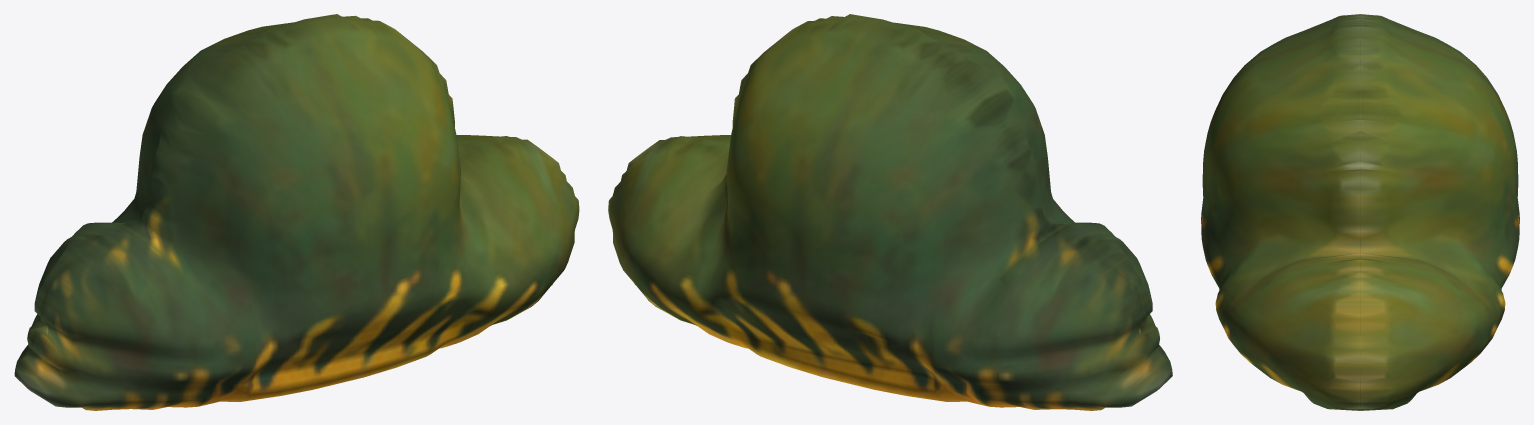
Rendered from 01_rocks_and_bushes_r03_c16.glb.
3 renders of one model, left to right at view 1: azimuth 30°, elevation 25°; view 2: azimuth 150°, elevation 25°; view 3: azimuth 270°, elevation 25°, orthographic. The views are drawn at different scales.
Parts seen in each view (by area): view 1: 01_rocks_and_bushes_r03_c16; view 2: 01_rocks_and_bushes_r03_c16; view 3: 01_rocks_and_bushes_r03_c16.
Boxes of the visible parts, left/top/right/bottom form: 01_rocks_and_bushes_r03_c16: left=14, top=14, right=579, bottom=410; 01_rocks_and_bushes_r03_c16: left=608, top=14, right=1172, bottom=410; 01_rocks_and_bushes_r03_c16: left=1201, top=14, right=1519, bottom=410.
Size of the model in its own units: 1.67 by 0.95 by 0.9169.
Materials: 1 (1 with a texture image).
